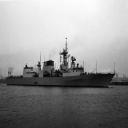Fragata: (6, 35, 117, 90)
